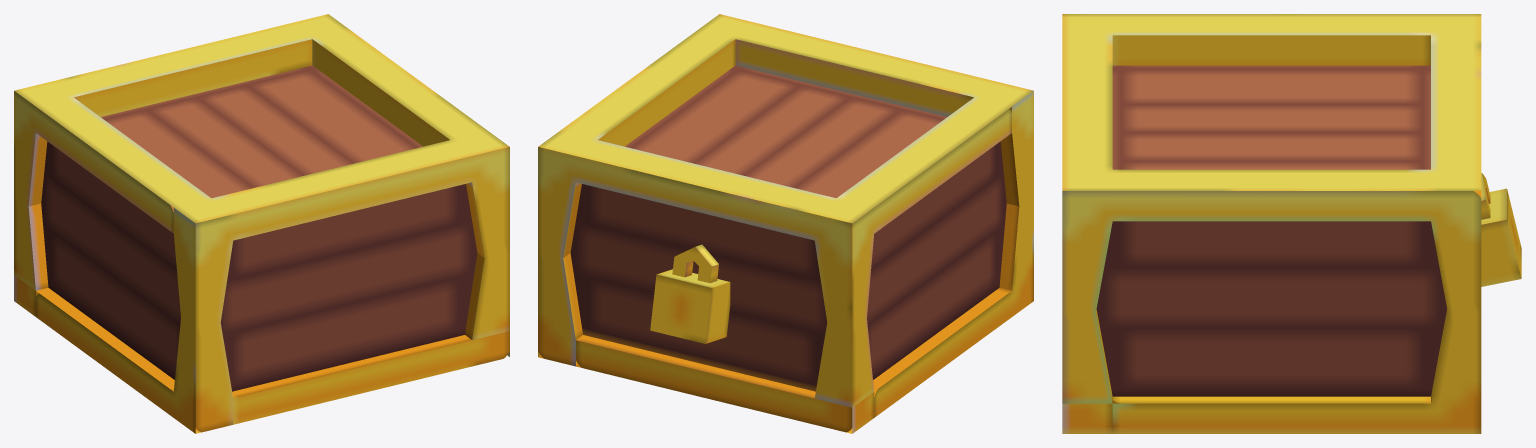
File: caseS.fbx
The picture shows the model from 3 angles, left to right: view 1: azimuth 30°, elevation 25°; view 2: azimuth 150°, elevation 25°; view 3: azimuth 270°, elevation 25°; orthographic projection. The views are drawn at different scales.
Parts seen in each view (by area): view 1: cuboid_3, cuboid; view 2: cuboid_3, cuboid, cuboid_1, cuboid_2; view 3: cuboid, cuboid_3, cuboid_1.
Boxes of the visible parts, x1,y1,x2,y2 form: cuboid_3: (14,14,509,433); cuboid: (41,65,477,391); cuboid_3: (538,14,1033,433); cuboid: (570,65,1006,391); cuboid_1: (650,269,730,343); cuboid_2: (672,244,718,283); cuboid: (1096,65,1446,396); cuboid_3: (1062,14,1481,433); cuboid_1: (1481,188,1521,286).
Bounding box in the file's own units: 156 × 100 × 171.
Materials: 1 (1 with a texture image).
